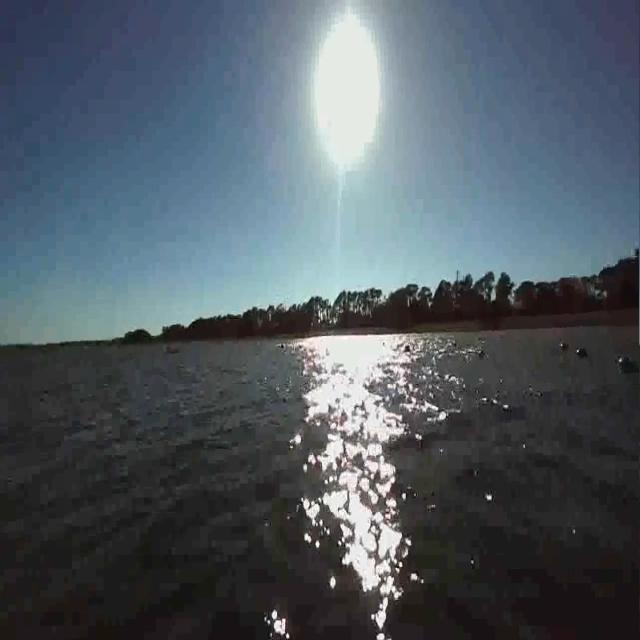yellow-buoy: (560, 357, 567, 368), (536, 356, 542, 366)
